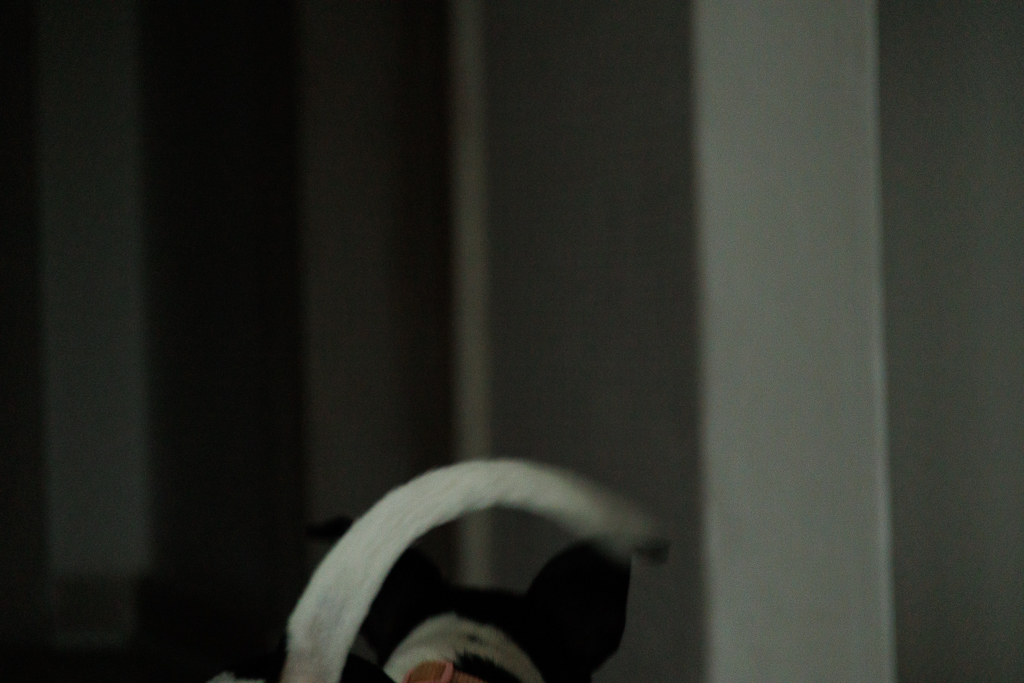Dog: (198, 448, 681, 683)
